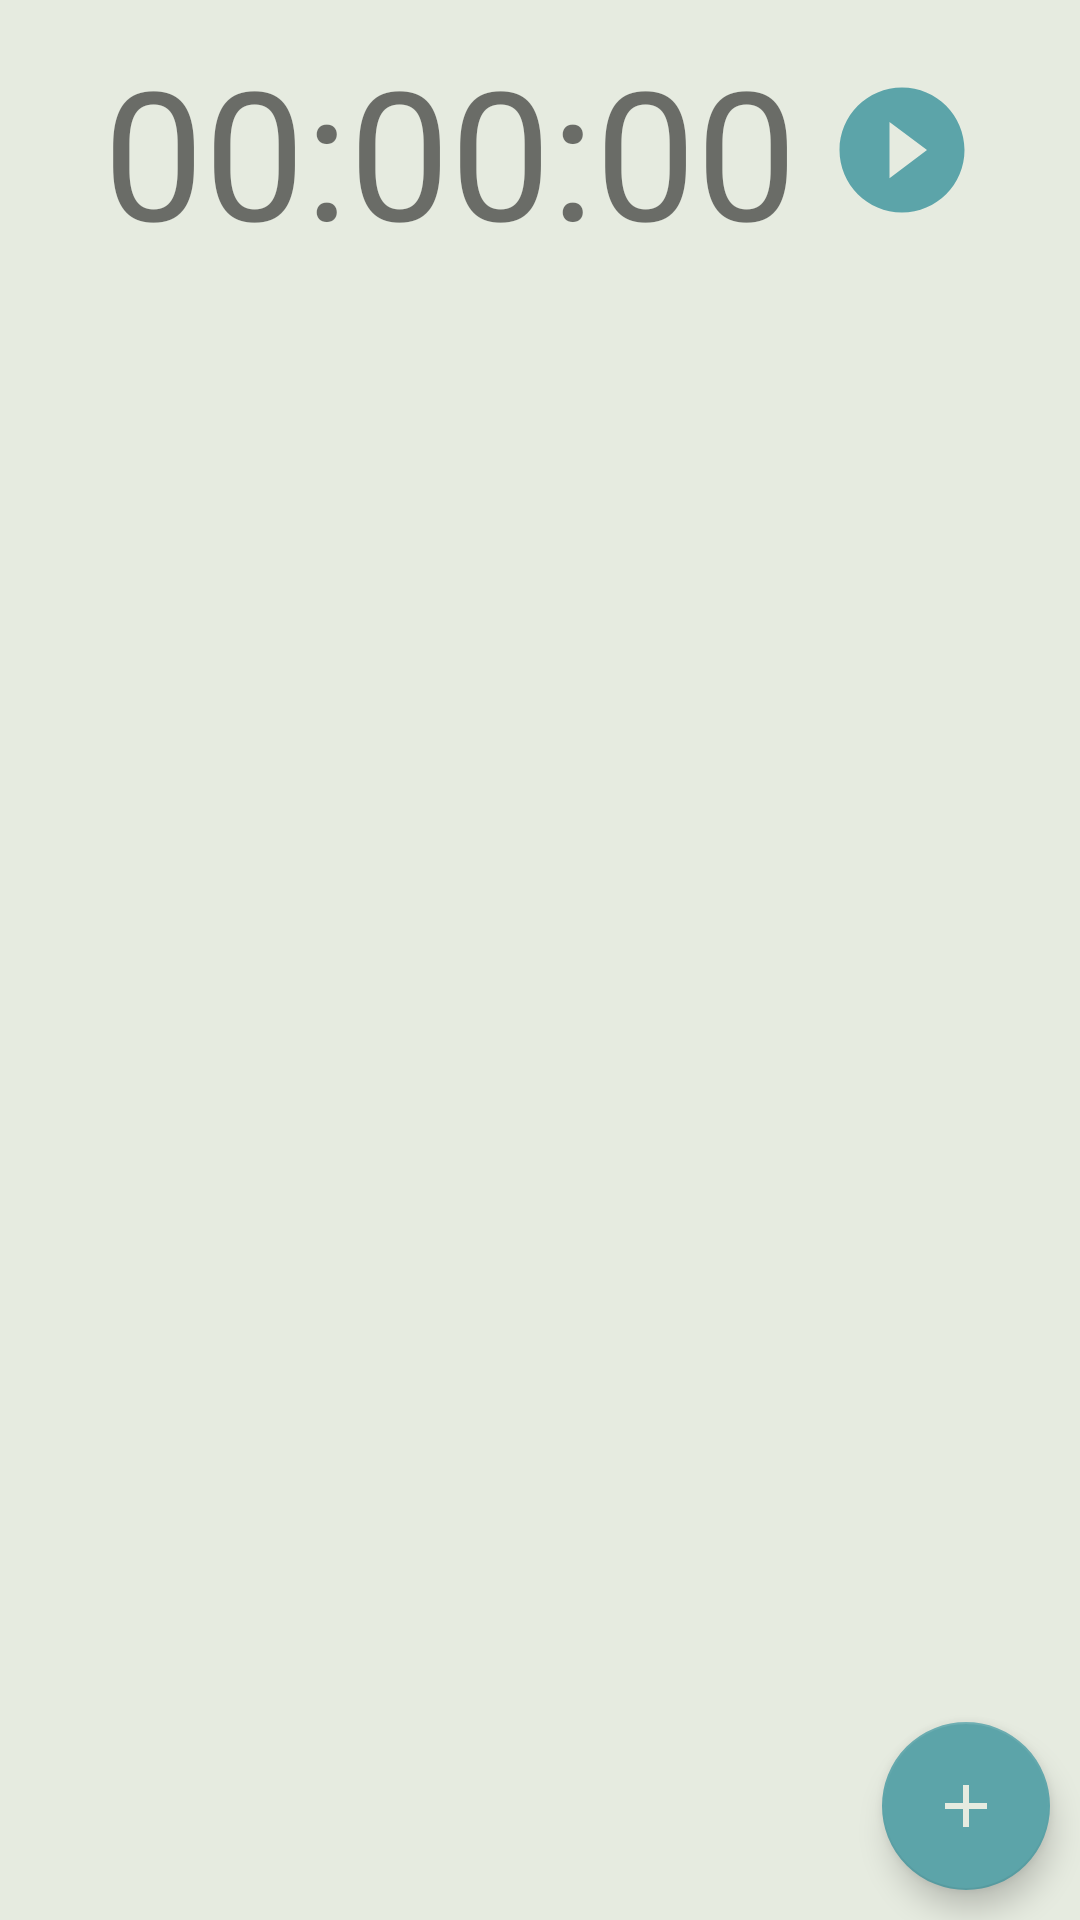

Screen size 1080 x 1920. Icon name, then its box in pixels as [left=x1, top=y1, right=x2, bottom=y2]:
add: [left=882, top=1722, right=1050, bottom=1890]
start and pause button: [left=839, top=87, right=965, bottom=213]
